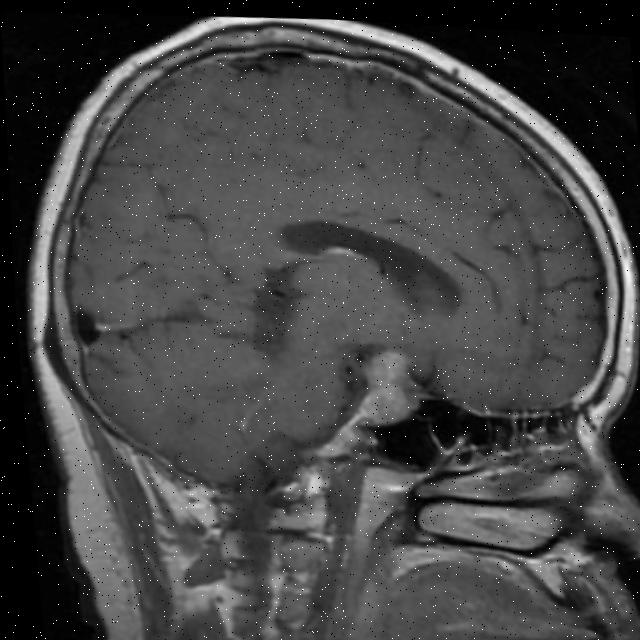Pituitary: (352, 348, 422, 430)
